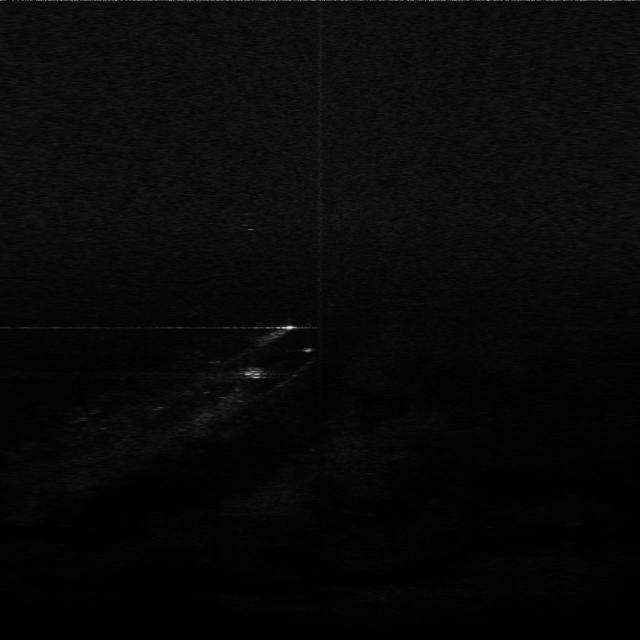rov: (234, 365, 270, 381)
